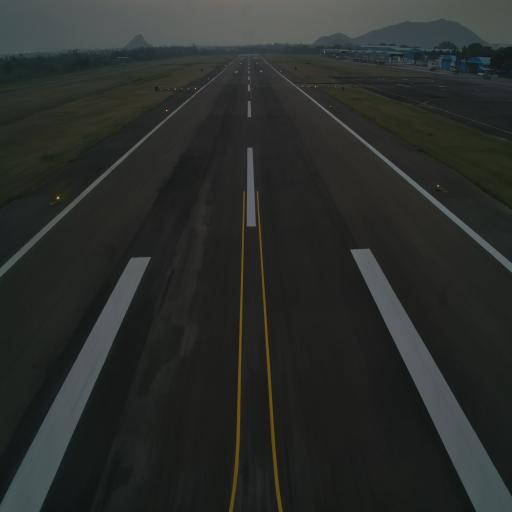on: (55, 191, 62, 205), (436, 182, 440, 192), (330, 104, 332, 110), (166, 108, 168, 112)
